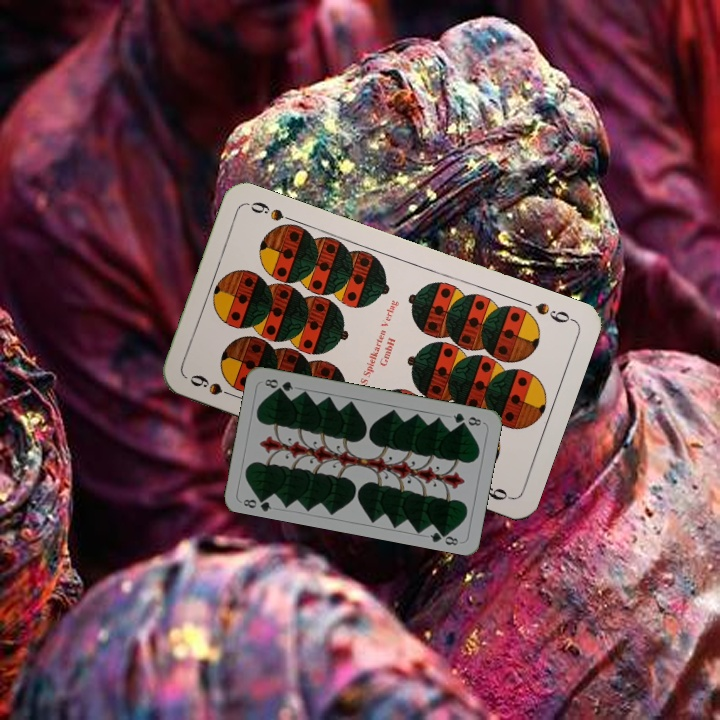G8: (239, 491, 274, 514), (449, 409, 484, 428)
S9: (186, 370, 241, 401), (531, 298, 577, 326)
